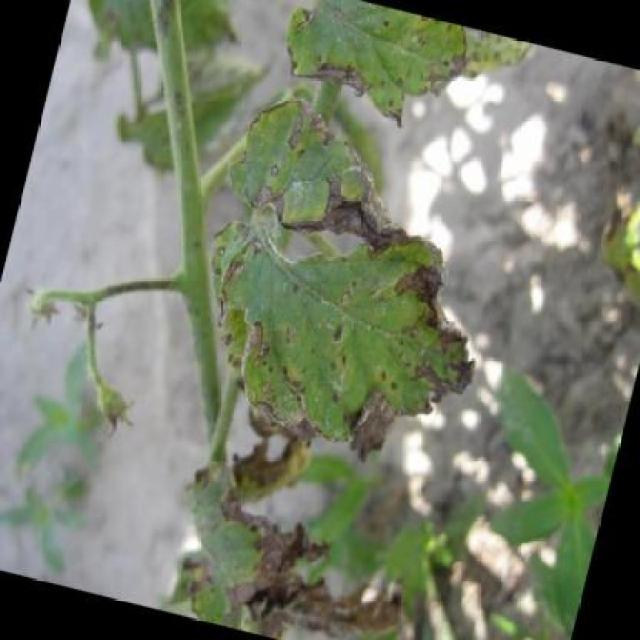Tomato leaf bacterial spot: (142, 80, 522, 494), (269, 0, 542, 142)
